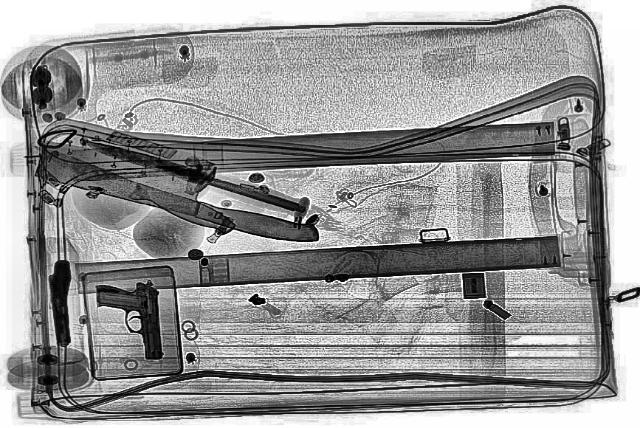Gun: (93, 278, 163, 362), (48, 258, 72, 348)
Knife: (14, 130, 340, 252), (22, 134, 244, 240), (75, 134, 301, 212)
